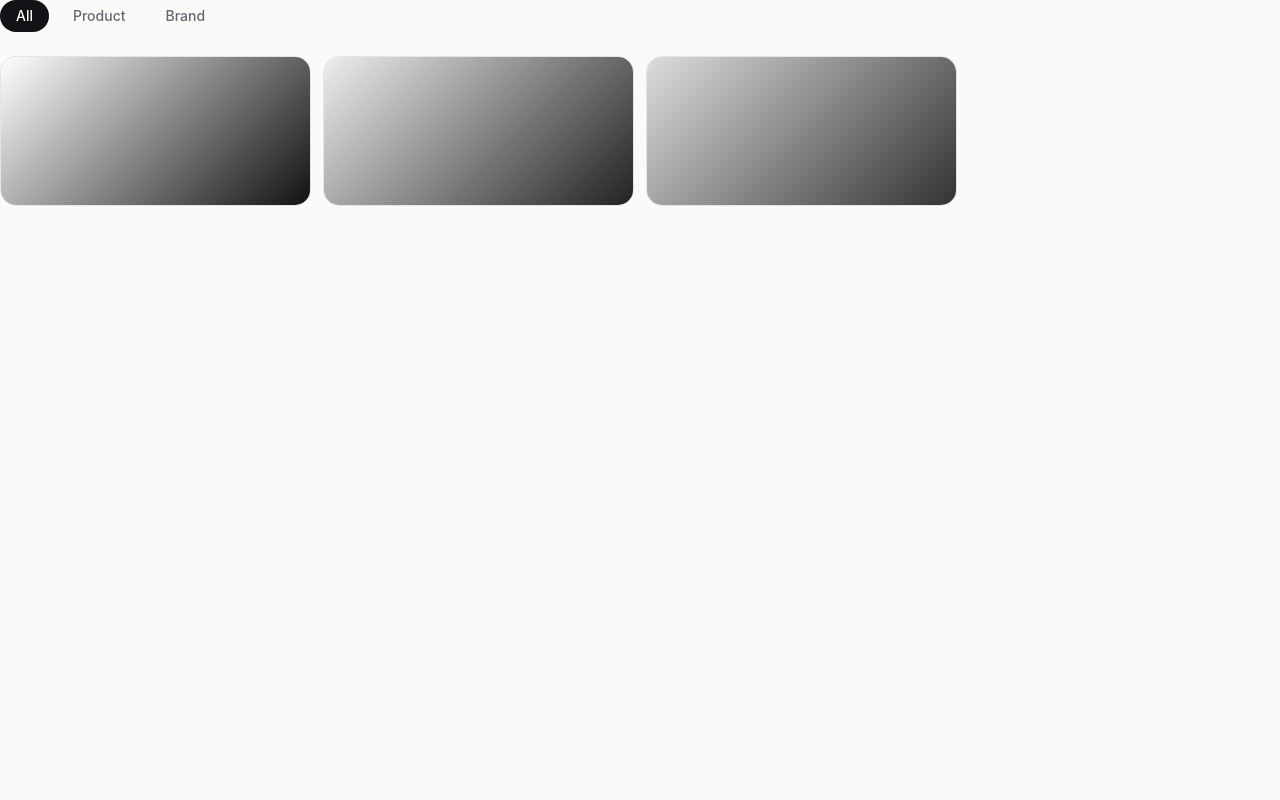
Test: Gallery › opens the lightbox on a tile and navigates / closes
Click the 1st button named "Launch": click(156, 131) x1=0 y1=56 x2=311 y2=206
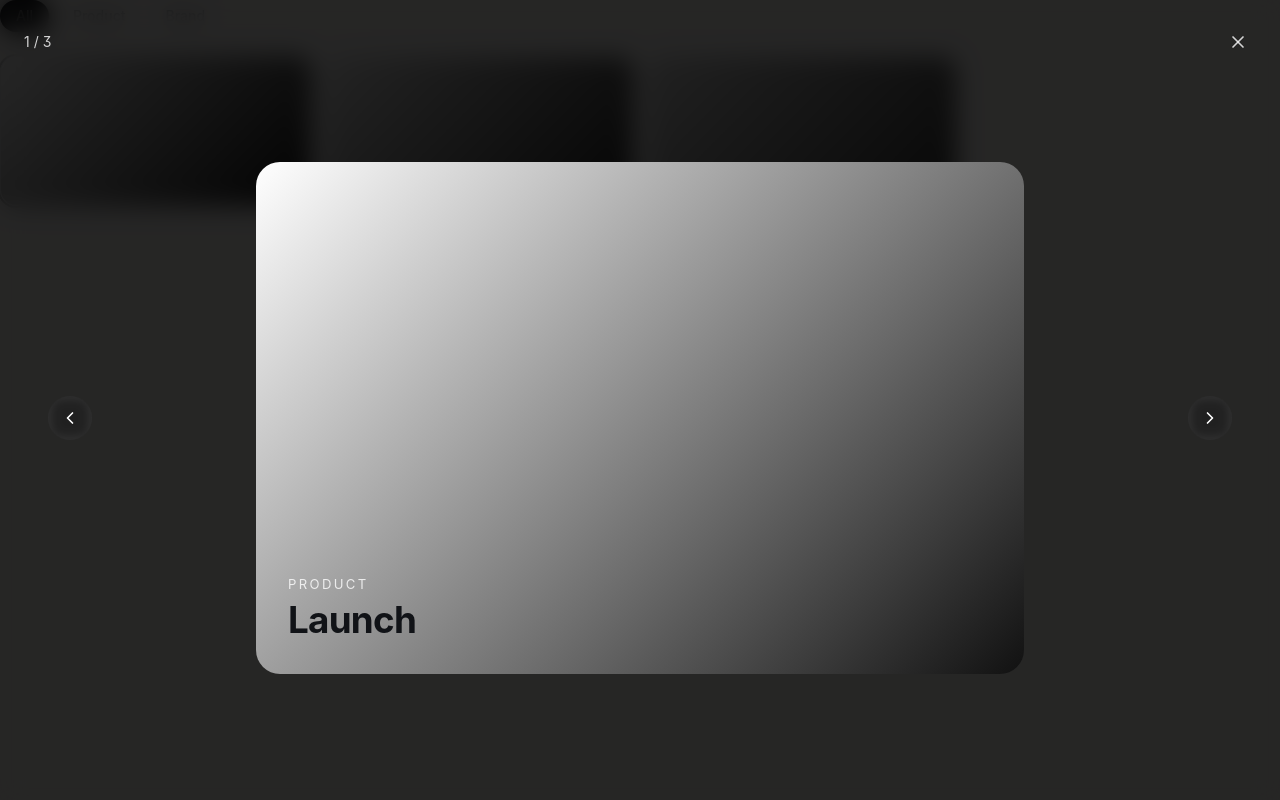
Click the button named "Next image": click(1210, 418) x1=1188 y1=396 x2=1232 y2=440
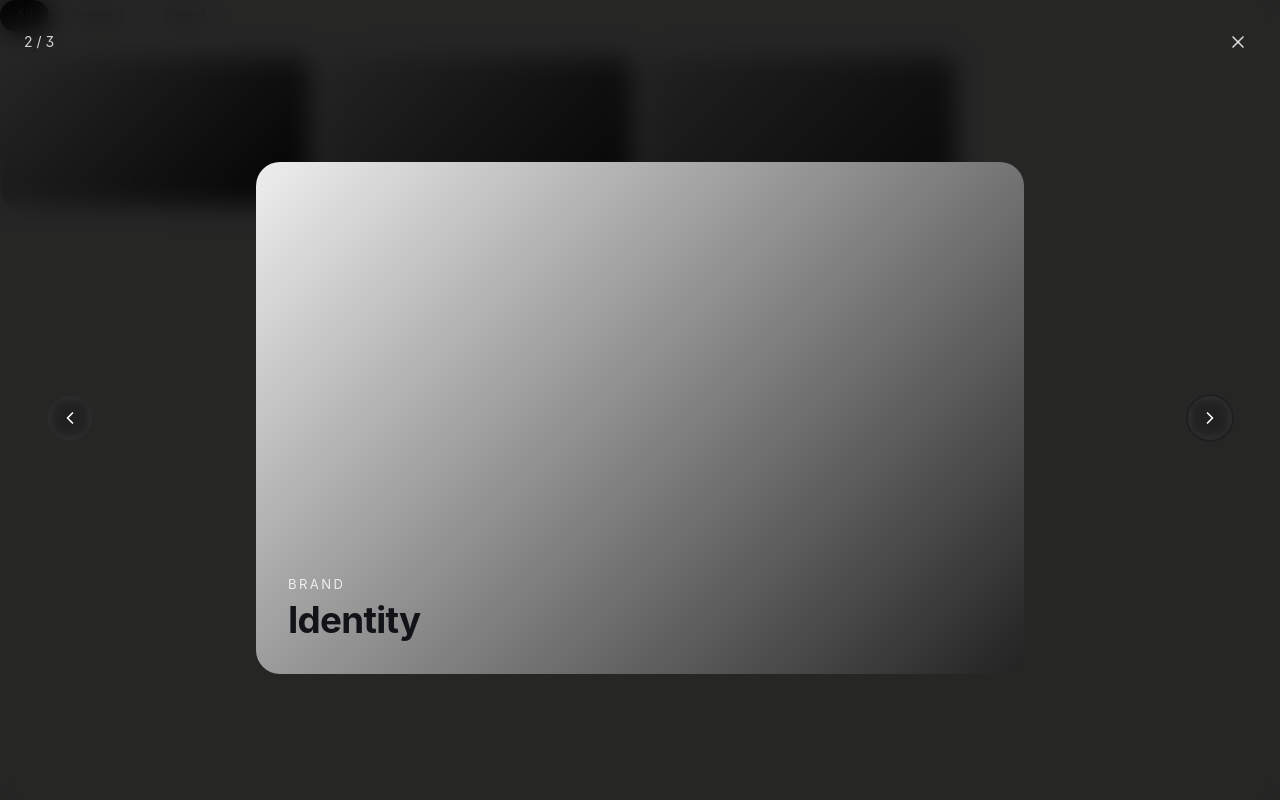
Check: the text "2 / 3" is shown, box x1=24 y1=32 x2=54 y2=52
Click the button named "Close": click(1238, 42) x1=1220 y1=24 x2=1256 y2=60
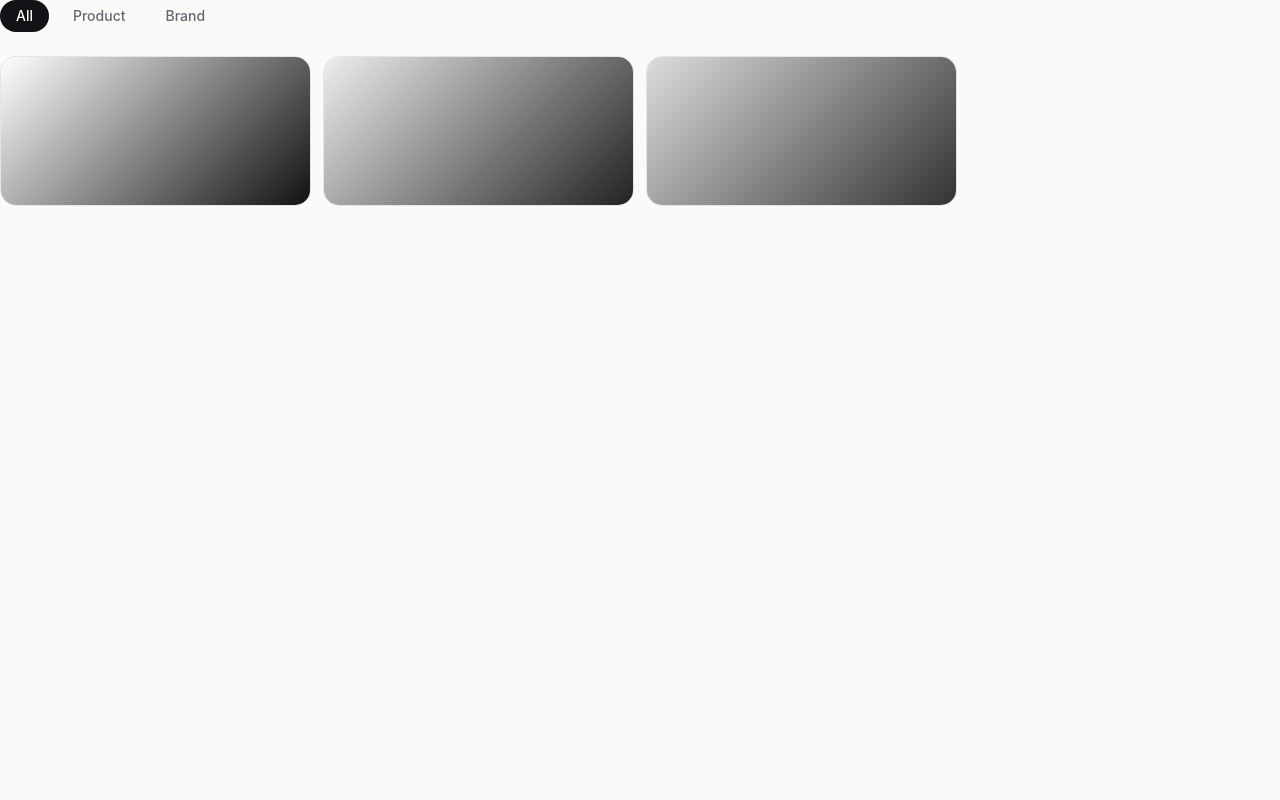
Check: the dialog is gone
